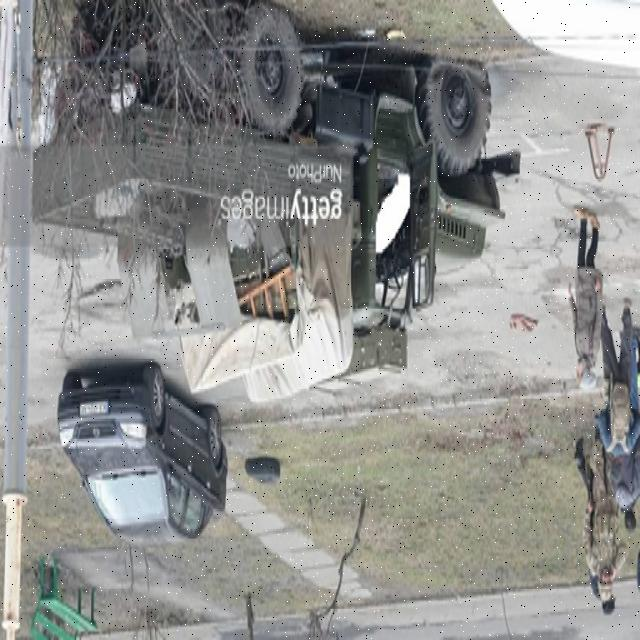CAR: (59, 370, 231, 552)
TRUCK: (34, 8, 516, 396)
